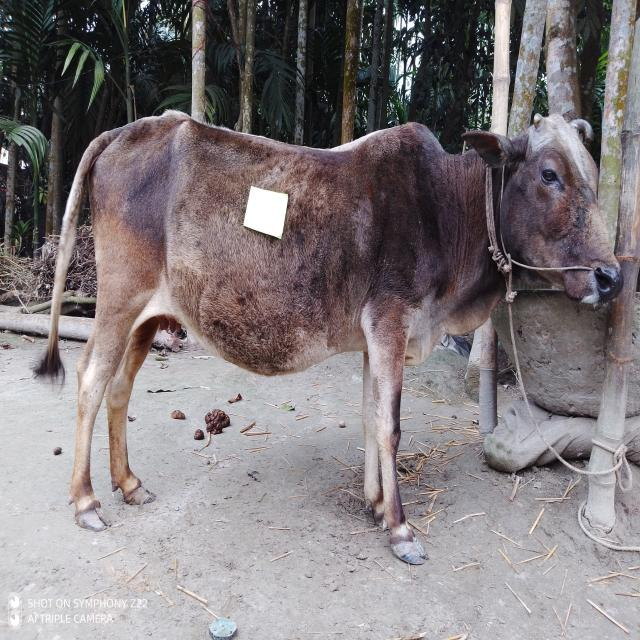badan_sapi: (110, 129, 412, 357)
sapi: (25, 91, 630, 566)
